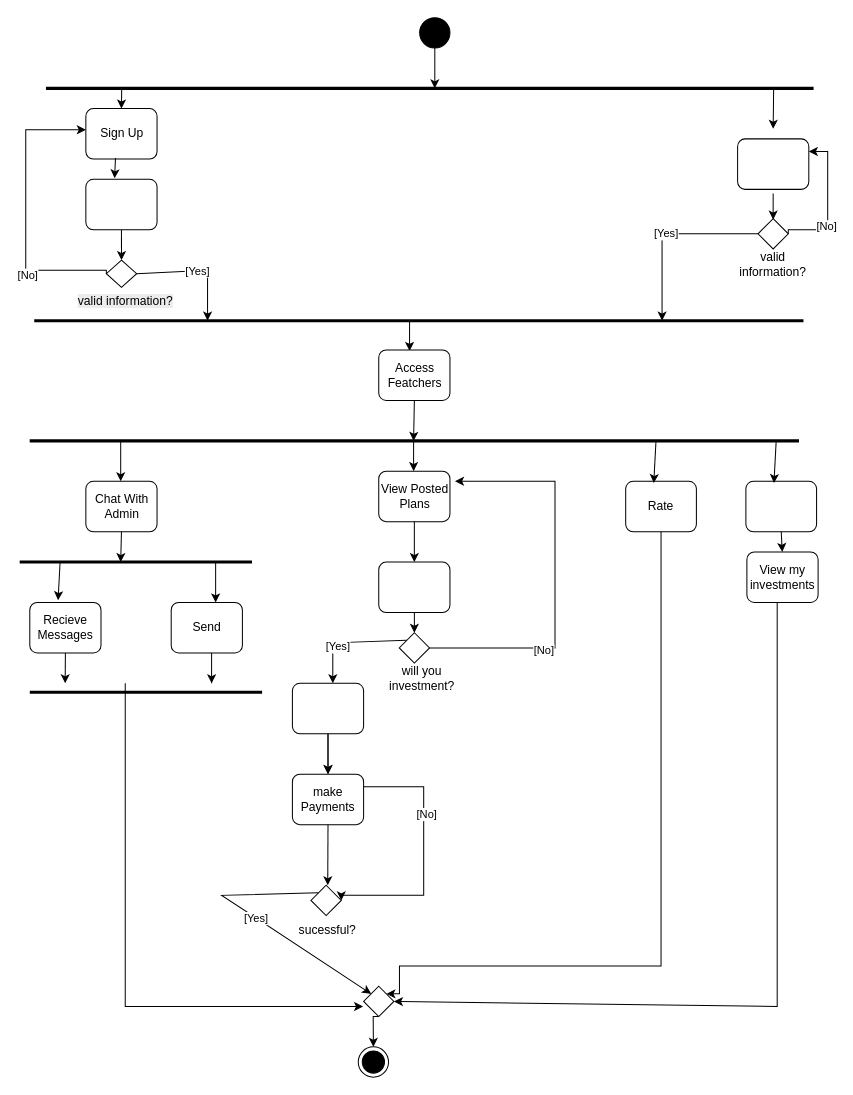
Some shapes in this 853 by 1095 pixel diagram are drawn without their labels. Each missing label, with the centre of its shape:
"Login" belongs at point 773,163.
"Select Plan" belongs at point 414,587.
"Sign Contract" belongs at point 327,708.
"Verify Information" belongs at point 121,204.
"View Profile" belongs at point 781,506.
